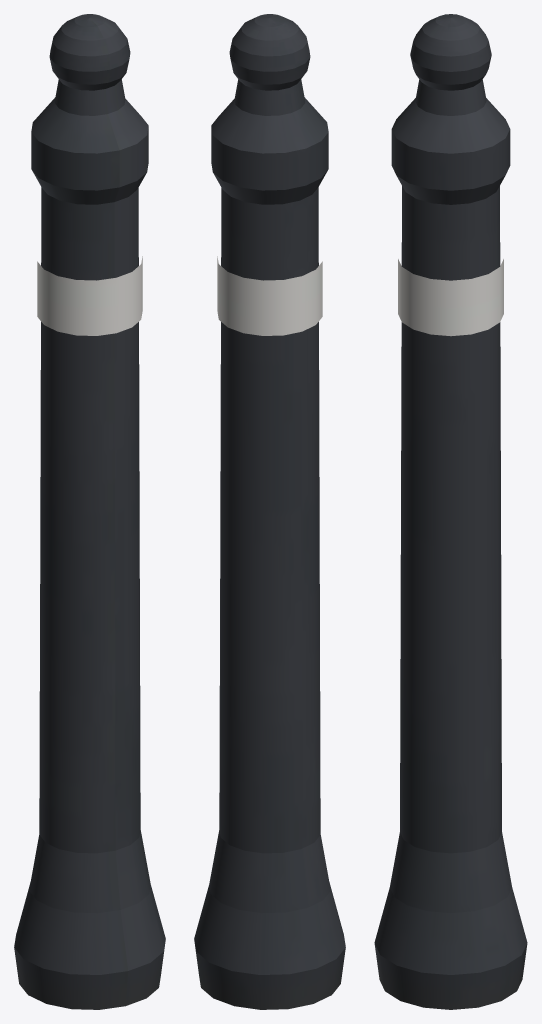
Rendered from potelet_lod0.glb.
3 views of the same model, side by side, from view 1: azimuth 30°, elevation 25°; view 2: azimuth 150°, elevation 25°; view 3: azimuth 270°, elevation 25° (orthographic).
Parts seen in each view (by area): view 1: potelet; view 2: potelet; view 3: potelet.
Part boxes in pixels (left/top/right/bottom): potelet: left=14, top=14, right=165, bottom=1009; potelet: left=194, top=14, right=345, bottom=1009; potelet: left=374, top=14, right=527, bottom=1009.
Size of the model in its own units: 0.1499 by 1.04 by 0.1499.
Materials: 1 (1 with a texture image).
